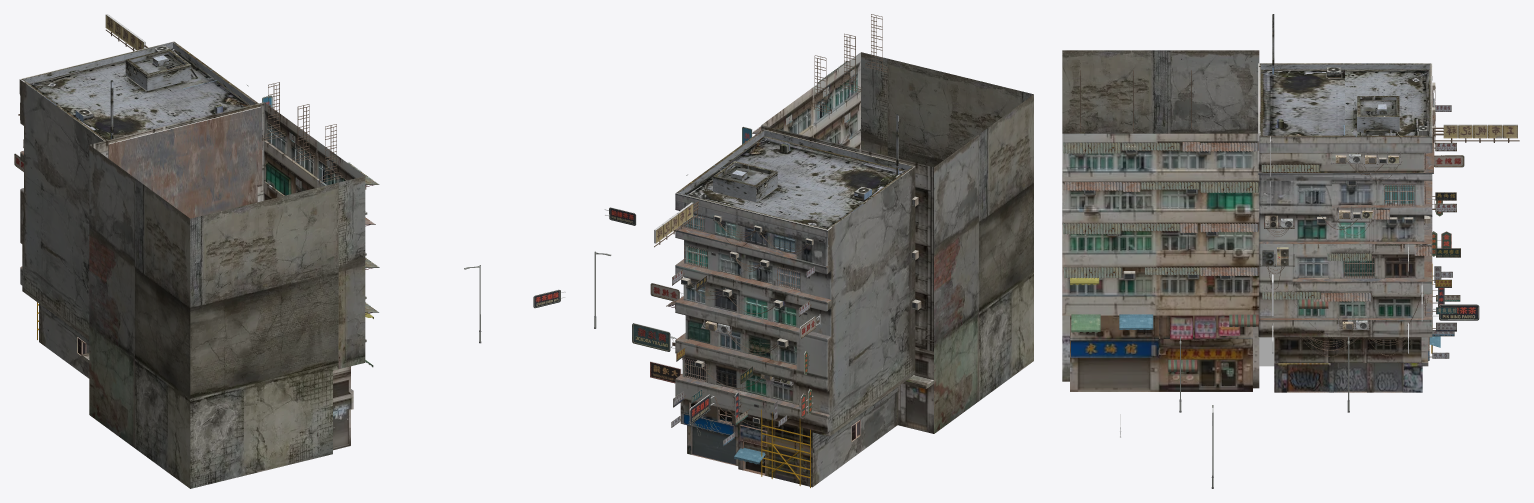
The model's file is block-hkiv-0.glb.
3 renders of one model, left to right at view 1: azimuth 30°, elevation 25°; view 2: azimuth 150°, elevation 25°; view 3: azimuth 270°, elevation 25°, orthographic. The views are drawn at different scales.
Parts seen in each view (by area): view 1: Object_354, Object_371, Object_370, Object_352, Object_189, Object_353; view 2: Object_354, Object_368, Object_371, Object_352, Object_369, Object_370, Object_189, Object_188, Object_353, Object_379, Object_357, Object_380 (+1 smaller); view 3: Object_352, Object_368, Object_354, Object_371, Object_353, Object_646, Object_369, Object_370, Object_650, Object_189, Object_572, Object_379 (+4 smaller).
Boxes of the visible parts, x1,y1,x2,y2 form: Object_354: (19,79,367,488); Object_371: (20,41,260,144); Object_370: (18,107,263,268); Object_352: (81,102,366,450); Object_189: (15,14,565,343); Object_353: (266,123,345,195); Object_354: (688,52,1033,486); Object_368: (674,129,831,487); Object_371: (675,114,914,230); Object_352: (761,52,933,433); Object_369: (683,214,799,422); Object_370: (675,215,830,475); Object_189: (594,14,888,487); Object_188: (609,127,816,424); Object_353: (780,73,857,143); Object_379: (671,266,814,446); Object_357: (681,68,921,423); Object_380: (686,174,860,442); Object_352: (1062,133,1259,391); Object_368: (1258,92,1434,392); Object_354: (1062,50,1429,360); Object_371: (1258,14,1432,136); Object_353: (1070,151,1252,386); Object_646: (1063,142,1371,299); Object_369: (1298,185,1419,349); Object_370: (1258,115,1434,392); Object_650: (1064,142,1432,301); Object_189: (1080,70,1519,488); Object_572: (1070,277,1440,371); Object_379: (1432,105,1460,358).
Size of the model in its own units: 69.74 by 52.98 by 70.
17 materials, 16 textured.
